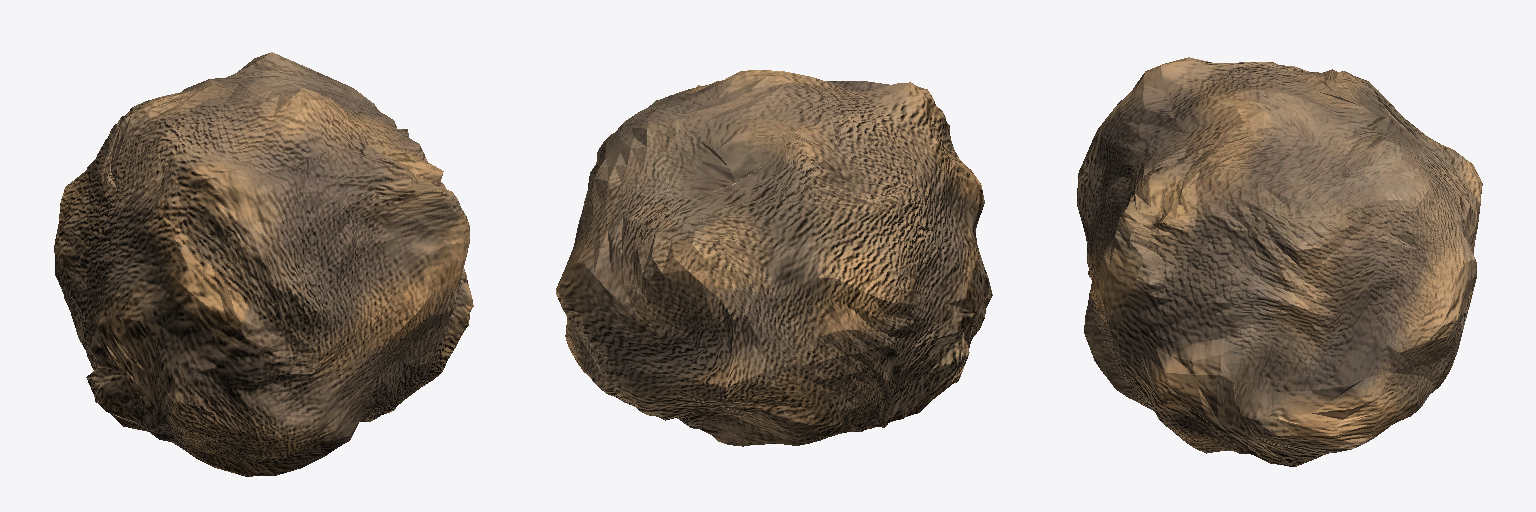
3 renders of one model, left to right at view 1: azimuth 30°, elevation 25°; view 2: azimuth 150°, elevation 25°; view 3: azimuth 270°, elevation 25°, orthographic.
Size of the model in its own units: 2.9 by 2.52 by 2.81.
1 materials, 1 textured.